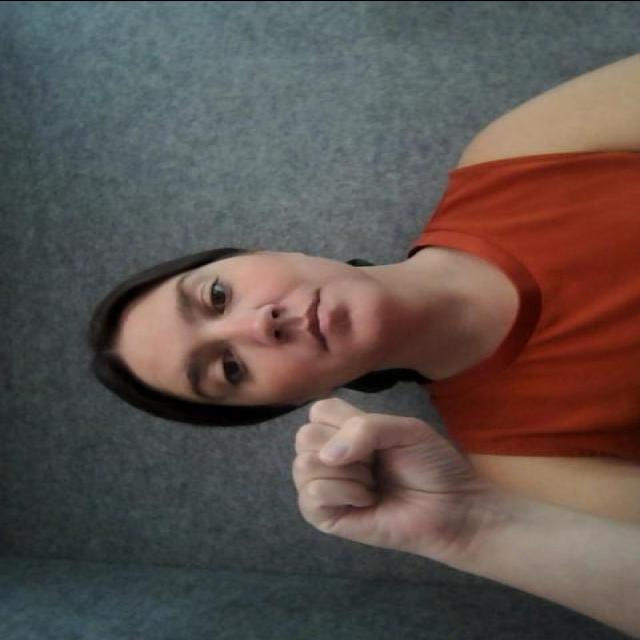Rock: (254, 395, 512, 556)
